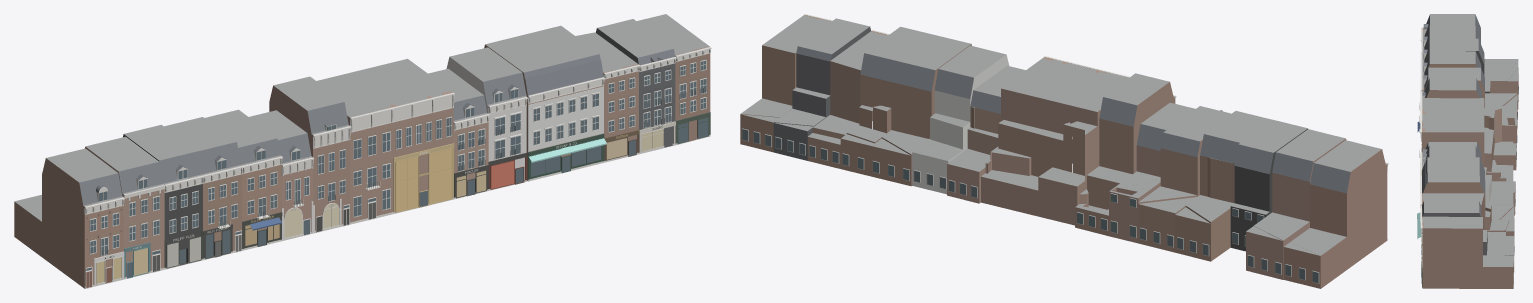
The model's file is chunk-face-hooft-80-112.glb.
3 views of the same model, side by side, from view 1: azimuth 30°, elevation 25°; view 2: azimuth 150°, elevation 25°; view 3: azimuth 270°, elevation 25° (orthographic). The views are drawn at different scales.
Visible parts, largest first — view 1: face-hooft-80-112; view 2: face-hooft-80-112; view 3: face-hooft-80-112.
Boxes of the visible parts, box(x1,y1,x2,y2) form: face-hooft-80-112: box(14, 14, 711, 288); face-hooft-80-112: box(740, 14, 1388, 288); face-hooft-80-112: box(1417, 14, 1518, 288).
Size of the model in its own units: 104 by 18.89 by 21.79.
